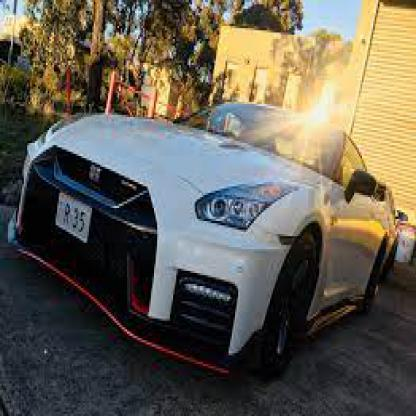car: (8, 96, 398, 384)
